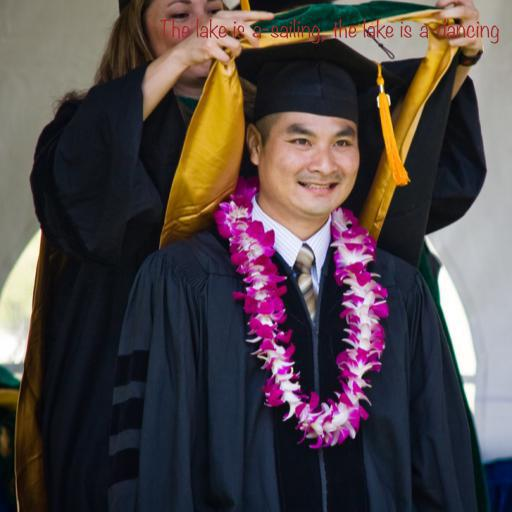Noteworthy: (158, 18, 500, 44)
